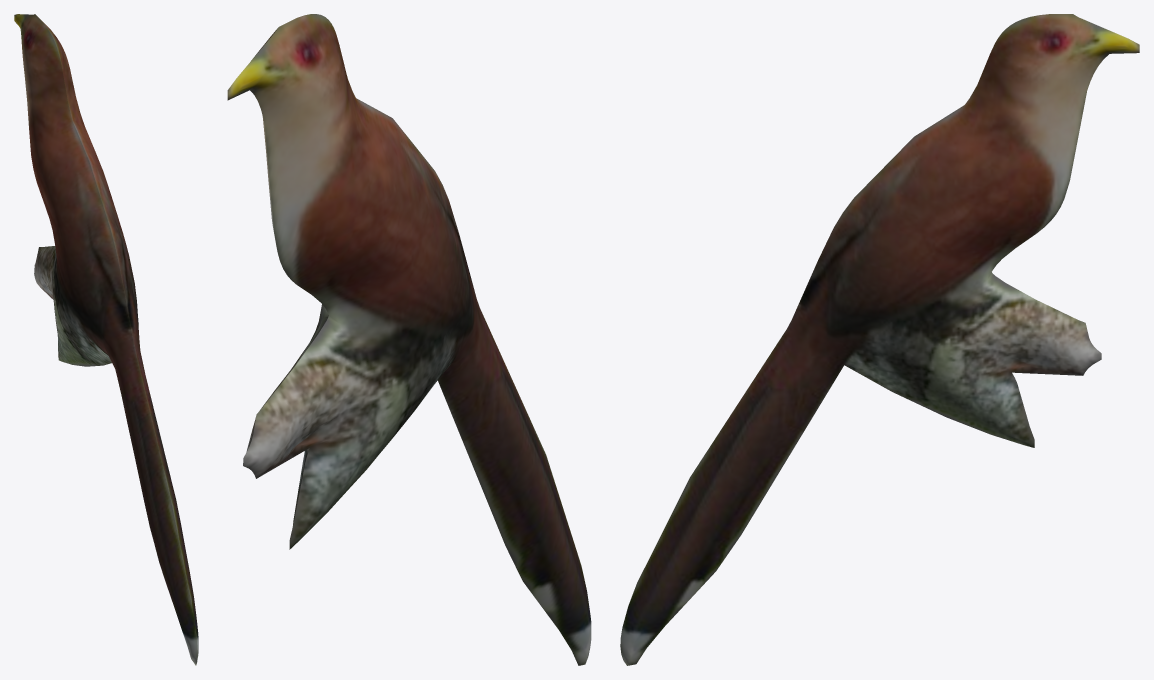
3 views of the same model, side by side, from view 1: azimuth 30°, elevation 25°; view 2: azimuth 150°, elevation 25°; view 3: azimuth 270°, elevation 25° (orthographic). The views are drawn at different scales.
Visible parts, largest first — view 1: node1; view 2: node1; view 3: node1.
Boxes of the visible parts, x1=… form: node1: x1=14, y1=14, x2=198, y2=665; node1: x1=227, y1=14, x2=591, y2=665; node1: x1=620, y1=14, x2=1139, y2=665.
Bounding box in the file's own units: 0.2081 × 1.68 × 1.2.
Materials: 1 (1 with a texture image).
